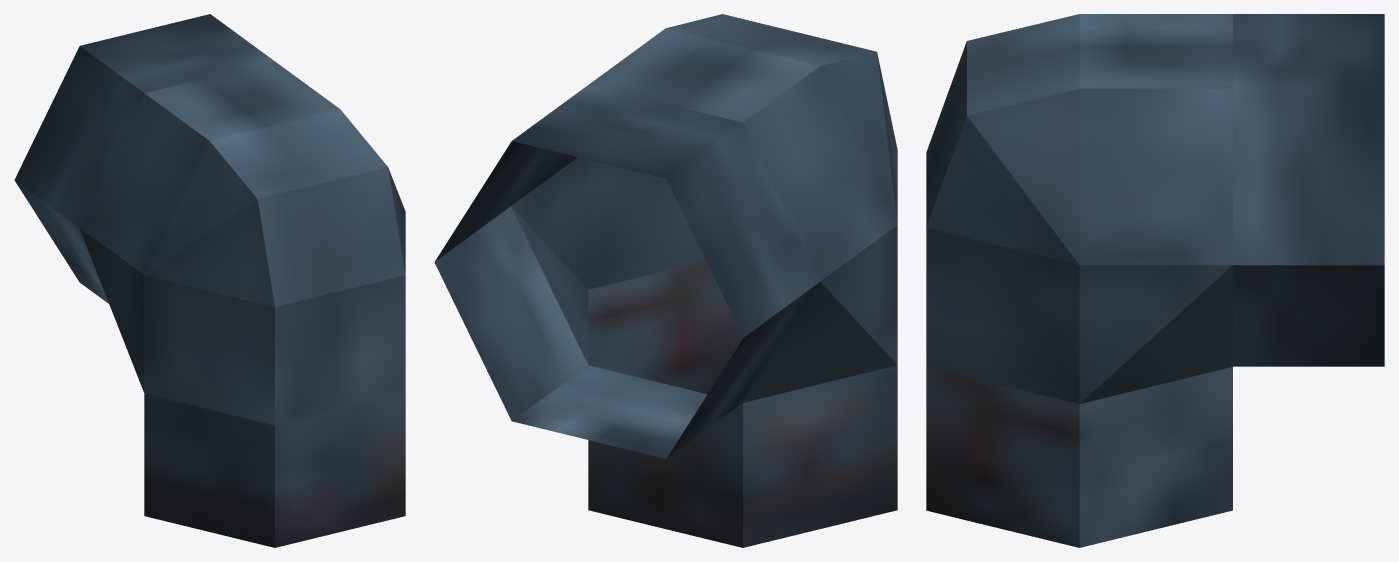
Rendered from MESH_PIPE_MEDIUM_2_R_002.fbx.
3 renders of one model, left to right at view 1: azimuth 30°, elevation 25°; view 2: azimuth 150°, elevation 25°; view 3: azimuth 270°, elevation 25°, orthographic. The views are drawn at different scales.
Visible parts, largest first — view 1: MESH_PIPE_MEDIUM_2_R.002; view 2: MESH_PIPE_MEDIUM_2_R.002; view 3: MESH_PIPE_MEDIUM_2_R.002.
Boxes of the visible parts, <box> form: MESH_PIPE_MEDIUM_2_R.002: <box>14,14,405,547</box>; MESH_PIPE_MEDIUM_2_R.002: <box>434,14,897,547</box>; MESH_PIPE_MEDIUM_2_R.002: <box>926,14,1384,547</box>.
Size of the model in its own units: 0.2541 by 0.3339 by 0.3291.
